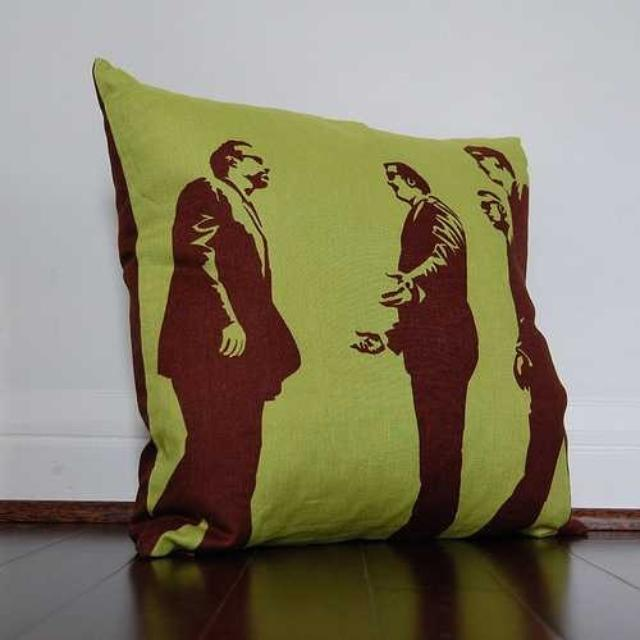pillow: (91, 54, 578, 558)
